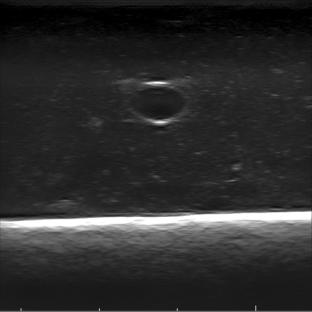vessel: (129, 80, 189, 125)
